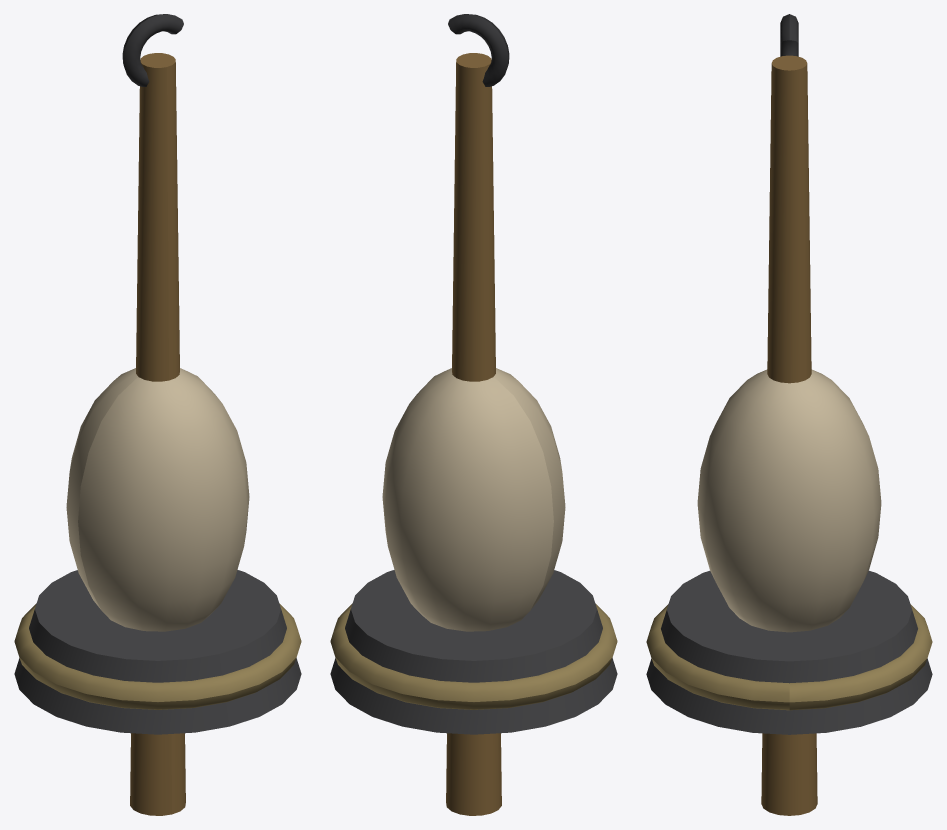
3 views of the same model, side by side, from view 1: azimuth 30°, elevation 25°; view 2: azimuth 150°, elevation 25°; view 3: azimuth 270°, elevation 25° (orthographic).
Parts seen in each view (by area): view 1: OBJ-009 — DEMO NON_VALIDE; view 2: OBJ-009 — DEMO NON_VALIDE; view 3: OBJ-009 — DEMO NON_VALIDE.
Boxes of the visible parts, x1,y1,x2,y2 form: OBJ-009 — DEMO NON_VALIDE: [14, 14, 301, 815]; OBJ-009 — DEMO NON_VALIDE: [330, 14, 617, 815]; OBJ-009 — DEMO NON_VALIDE: [646, 14, 932, 815].
Bounding box in the file's own units: 0.6473 × 1.96 × 0.6473.
